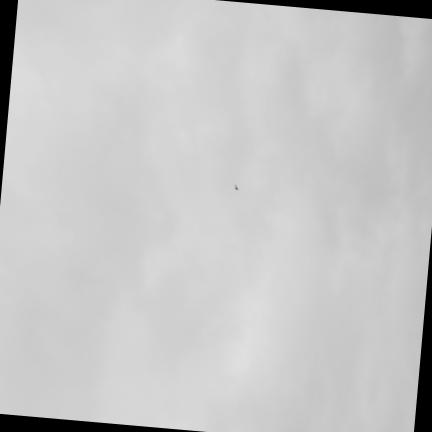Shahed: (233, 182, 239, 189)
